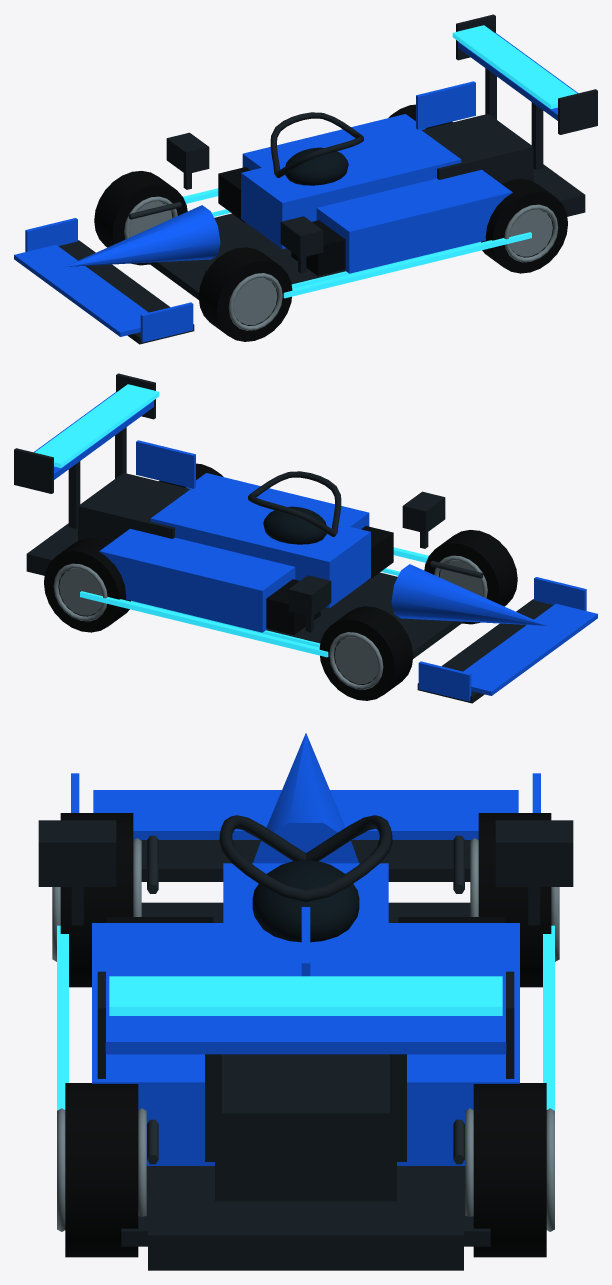
Rendered from aeroflow-formula-01.glb.
3 renders of one model, top to bottom at view 1: azimuth 30°, elevation 25°; view 2: azimuth 150°, elevation 25°; view 3: azimuth 270°, elevation 25°, orthographic. The views are drawn at different scales.
Parts seen in each view (by area): view 1: Sidepod_Right, Monocoque, Wheel_Front_Right, Wheel_Rear_Right, EngineCover, FrontWing_Flap, NoseCone, Wheel_Front_Left, Floor, RearWing_Flap, Sidepod_Left, SharkFin (+17 smaller); view 2: Sidepod_Left, Monocoque, Wheel_Front_Left, Wheel_Rear_Left, EngineCover, FrontWing_Flap, NoseCone, Wheel_Front_Right, Floor, RearWing_Flap, Sidepod_Right, SharkFin (+17 smaller); view 3: EngineCover, Diffuser, RearWing_Flap, RearWing_Main, Sidepod_Left, Sidepod_Right, Wheel_Rear_Left, Wheel_Rear_Right, FrontWing_Flap, Monocoque, FrontWing_Main, Wheel_Front_Left (+15 smaller).
Part boxes in pixels (<box>): Sidepod_Right: <box>316,169,512,273</box>; Monocoque: <box>241,129,461,249</box>; Wheel_Front_Right: <box>198,247,292,341</box>; Wheel_Rear_Right: <box>481,179,567,273</box>; EngineCover: <box>421,114,533,183</box>; FrontWing_Flap: <box>14,244,148,336</box>; NoseCone: <box>65,205,220,266</box>; Wheel_Front_Left: <box>94,171,187,265</box>; Floor: <box>148,213,345,299</box>; RearWing_Flap: <box>452,25,576,108</box>; Sidepod_Left: <box>242,114,425,170</box>; SharkFin: <box>416,81,475,129</box>; Sidepod_Left: <box>99,528,295,632</box>; Monocoque: <box>150,488,370,608</box>; Wheel_Front_Left: <box>319,606,413,700</box>; Wheel_Rear_Left: <box>44,538,130,632</box>; EngineCover: <box>78,473,190,542</box>; FrontWing_Flap: <box>463,603,597,695</box>; NoseCone: <box>391,564,546,625</box>; Wheel_Front_Right: <box>424,530,517,624</box>; Floor: <box>266,572,463,658</box>; RearWing_Flap: <box>35,384,159,467</box>; Sidepod_Right: <box>186,473,369,529</box>; SharkFin: <box>136,440,195,488</box>; EngineCover: <box>215,1054,396,1201</box>; Diffuser: <box>148,1184,463,1270</box>; RearWing_Flap: <box>109,976,502,1015</box>; RearWing_Main: <box>105,1005,506,1054</box>; Sidepod_Left: <box>388,923,519,1165</box>; Sidepod_Right: <box>92,923,223,1165</box>; Wheel_Rear_Left: <box>465,1083,554,1257</box>; Wheel_Rear_Right: <box>57,1083,146,1257</box>; FrontWing_Flap: <box>93,790,518,839</box>; Monocoque: <box>223,863,388,976</box>; FrontWing_Main: <box>141,840,470,881</box>; Wheel_Front_Left: <box>470,813,559,987</box>.
Size of the model in its own units: 4.58 by 1.43 by 2.2.
